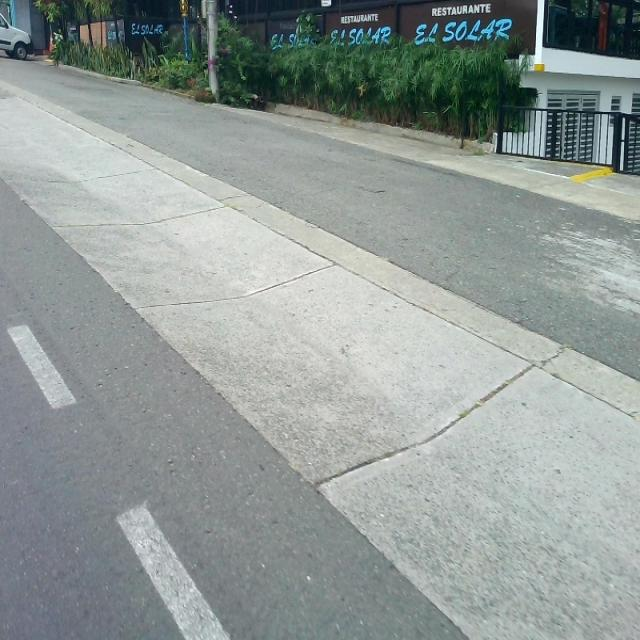DITCH: (1, 61, 638, 638)
